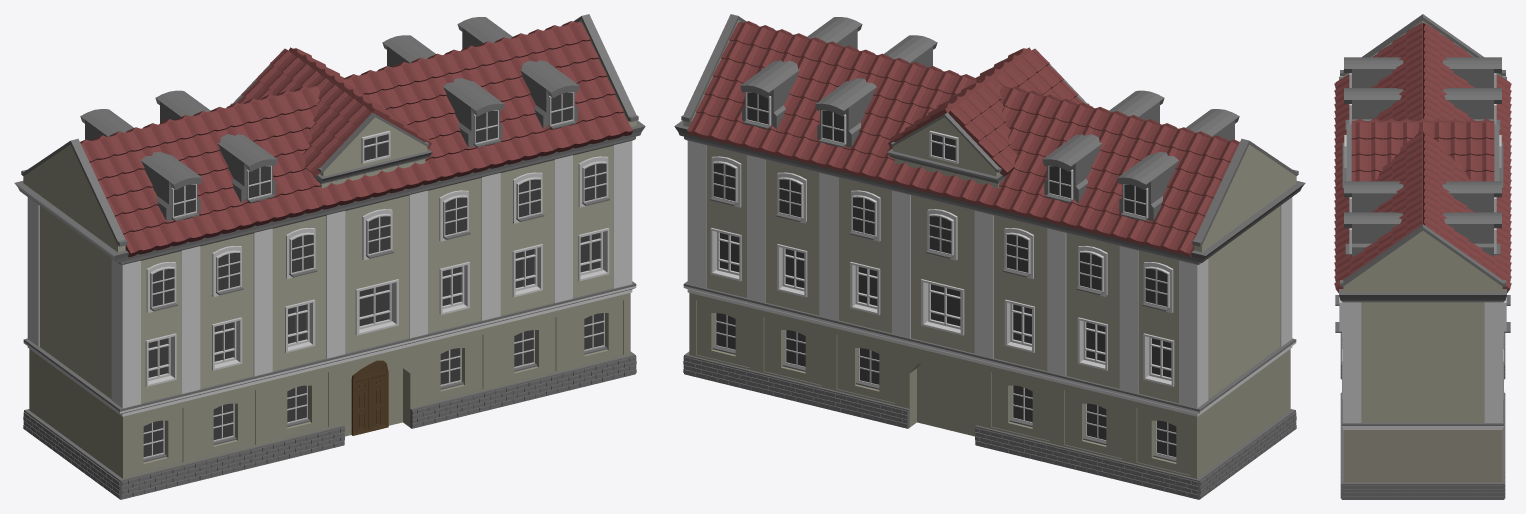
Rendered from Building1_Large.glb.
3 renders of one model, left to right at view 1: azimuth 30°, elevation 25°; view 2: azimuth 150°, elevation 25°; view 3: azimuth 270°, elevation 25°, orthographic. The views are drawn at different scales.
Parts seen in each view (by area): view 1: Building1_Large_Cube; view 2: Building1_Large_Cube; view 3: Building1_Large_Cube.
Part boxes in pixels (x1,y1,x2,y2): Building1_Large_Cube: (14,14,645,499); Building1_Large_Cube: (674,14,1305,499); Building1_Large_Cube: (1334,14,1511,499).
Bounding box in the file's own units: 7.99 × 4.67 × 2.74.
